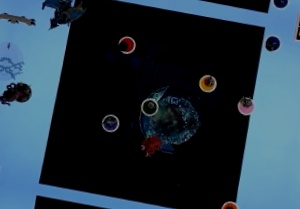blue: (262, 33, 284, 55)
green: (137, 95, 165, 119)
orange: (217, 195, 243, 209)
pink: (234, 94, 258, 117)
red: (117, 32, 138, 55)
violet: (99, 108, 124, 136)
yellow: (195, 68, 222, 97)
